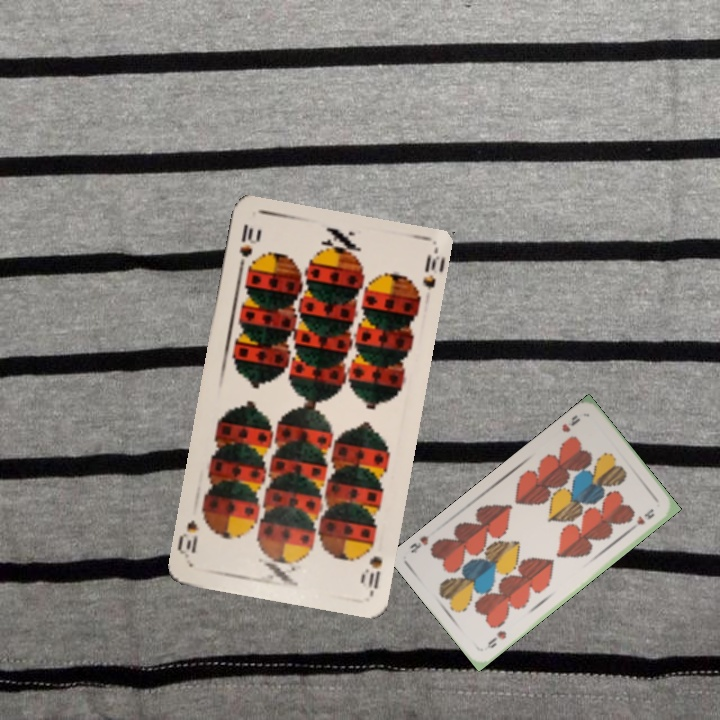H9: (483, 626, 509, 651), (558, 411, 583, 435)
S10: (234, 220, 261, 277), (358, 551, 385, 595)
